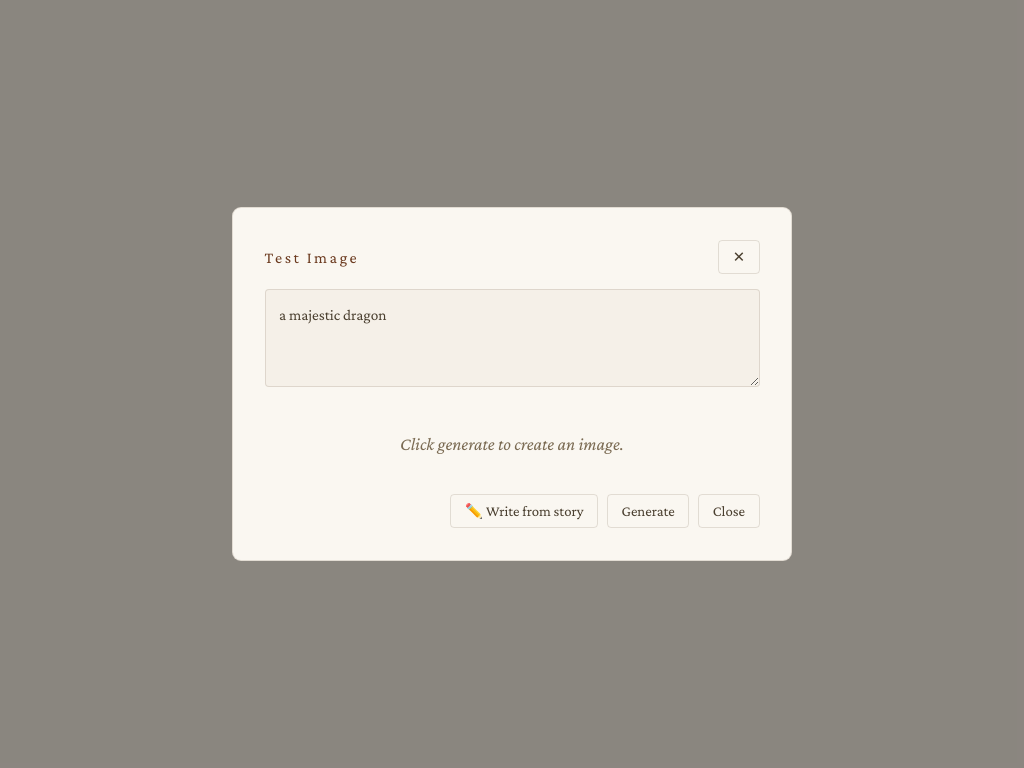
Test: unit - handleGenerate › generates image with description only (no URL)
Click the button "Generate" at (648,511), box [607,494,689,528]
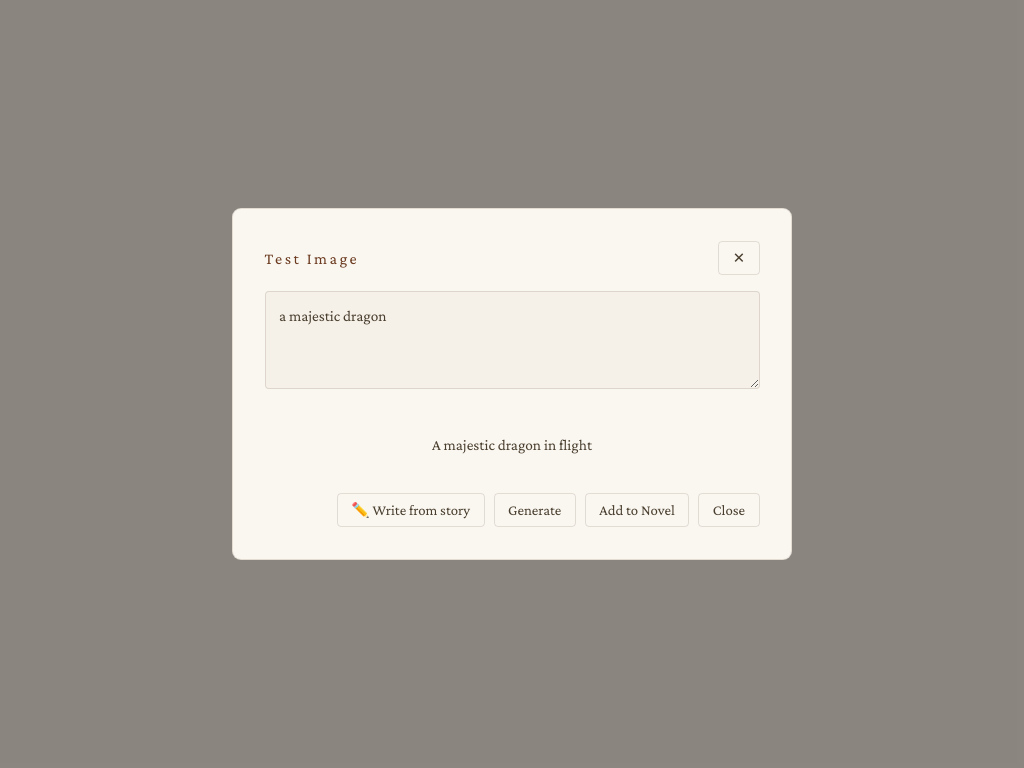
Expected: the text "A majestic dragon in flight" is shown, [432,436,592,452]
